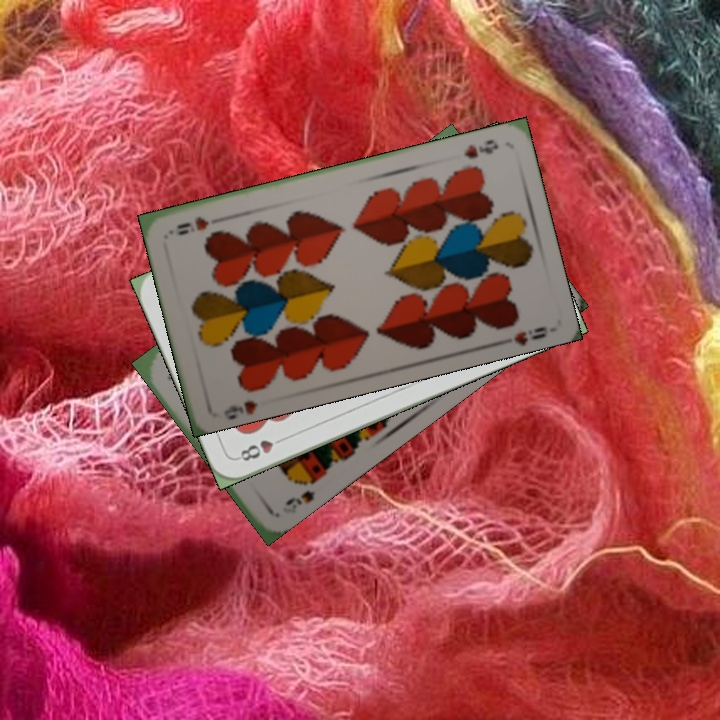H8: (233, 432, 289, 464)
H9: (460, 135, 501, 162), (219, 396, 260, 420)
S9: (281, 471, 322, 509)
